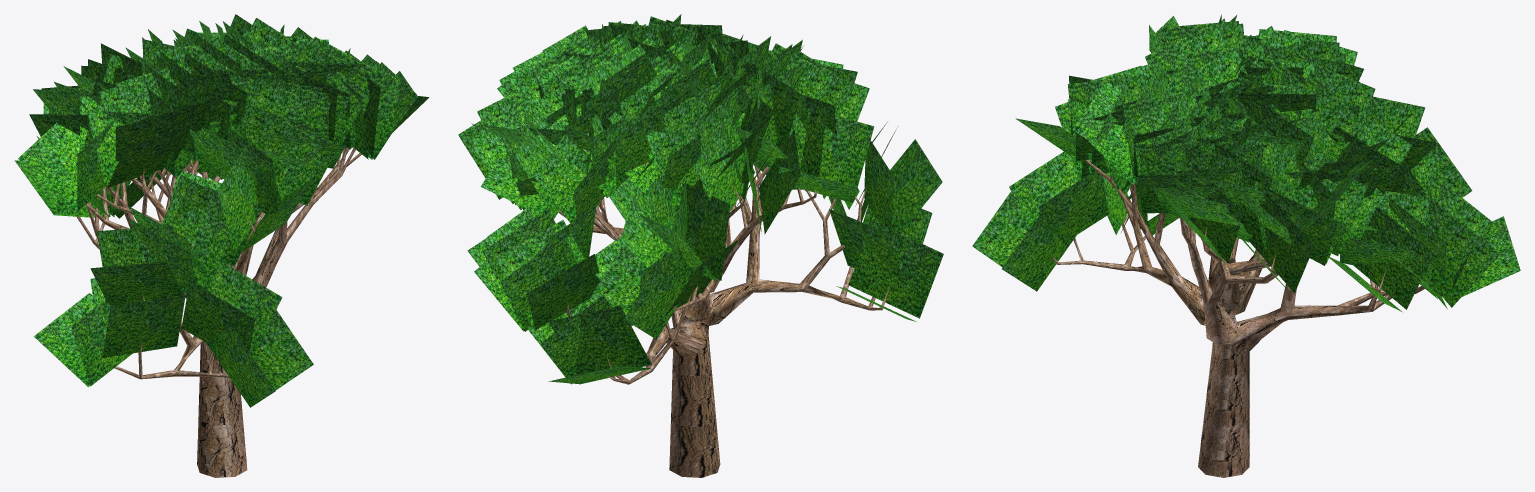
3 views of the same model, side by side, from view 1: azimuth 30°, elevation 25°; view 2: azimuth 150°, elevation 25°; view 3: azimuth 270°, elevation 25° (orthographic).
Visible parts, largest first — view 1: twig_007, tree_007; view 2: twig_007, tree_007; view 3: twig_007, tree_007.
Part boxes in pixels (x1=…): twig_007: x1=14, y1=14, x2=428, y2=407; tree_007: x1=77, y1=147, x2=361, y2=477; twig_007: x1=458, y1=14, x2=943, y2=384; tree_007: x1=558, y1=158, x2=890, y2=477; twig_007: x1=972, y1=14, x2=1520, y2=311; tree_007: x1=1050, y1=159, x2=1424, y2=477.
Size of the model in its own units: 12.68 by 14.87 by 12.64.
Materials: 2 (2 with a texture image).
